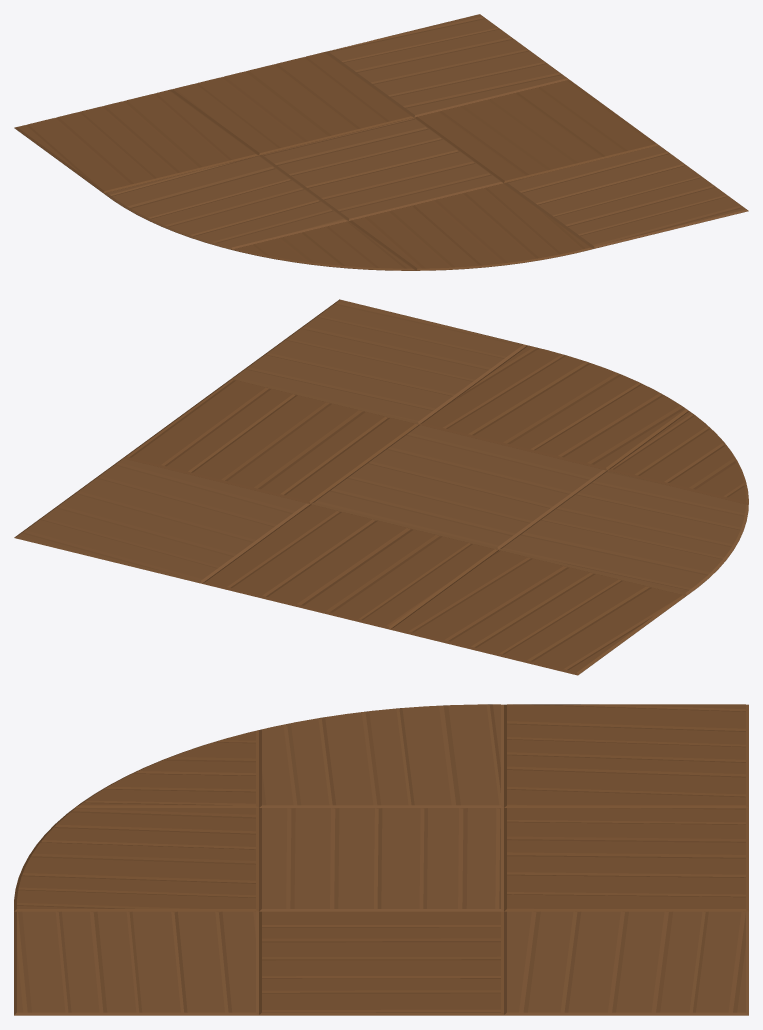
Rendered from Wood_Floor_Module_03_00.glb.
The picture shows the model from 3 angles, top to bottom: view 1: azimuth 30°, elevation 25°; view 2: azimuth 150°, elevation 25°; view 3: azimuth 270°, elevation 25°; orthographic projection. The views are drawn at different scales.
Visible parts, largest first — view 1: Wood_Floor_Module_03_00; view 2: Wood_Floor_Module_03_00; view 3: Wood_Floor_Module_03_00.
Part boxes in pixels (<box>): Wood_Floor_Module_03_00: <box>14,14,748,270</box>; Wood_Floor_Module_03_00: <box>14,299,748,675</box>; Wood_Floor_Module_03_00: <box>14,704,748,1015</box>.
Size of the model in its own units: 4.74 by 0.012 by 4.74.
